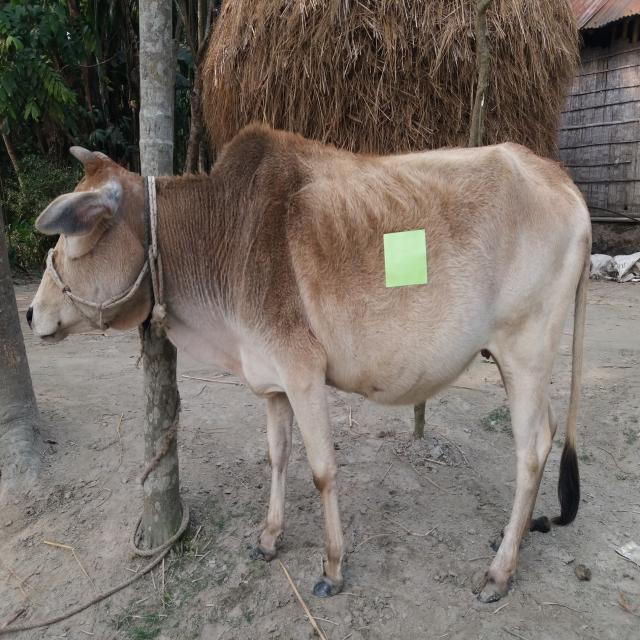badan_sapi: (229, 134, 590, 409)
sapi: (21, 111, 599, 608)
